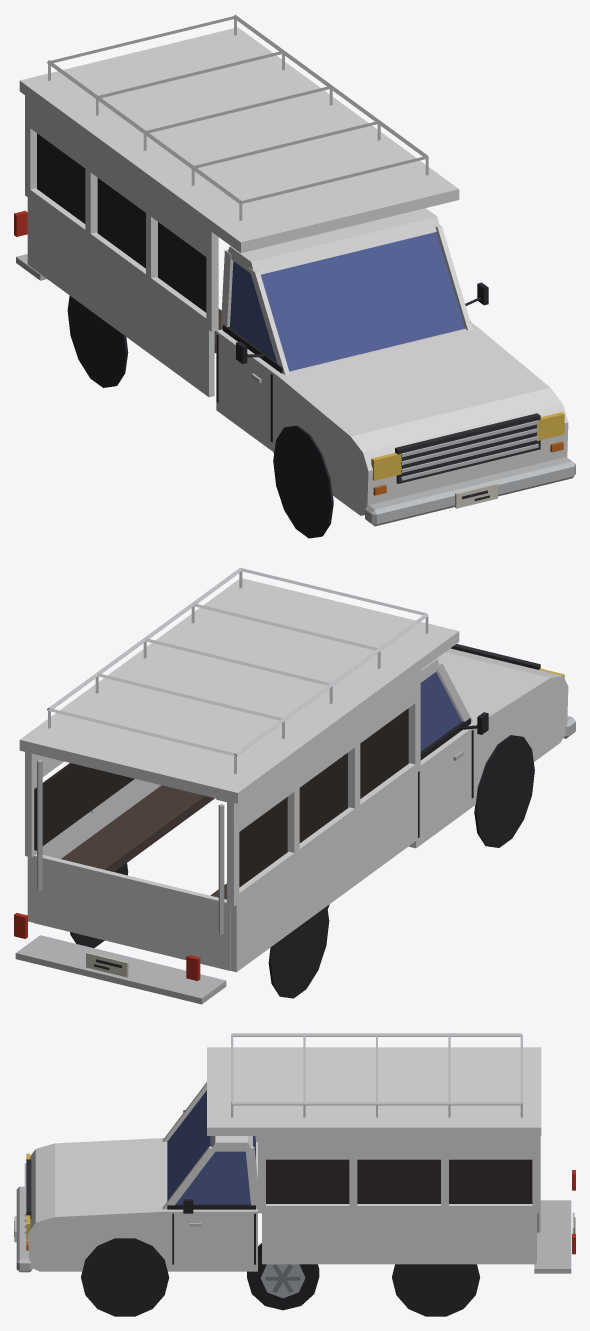
The model's file is songthaew.glb.
3 renders of one model, top to bottom at view 1: azimuth 30°, elevation 25°; view 2: azimuth 150°, elevation 25°; view 3: azimuth 270°, elevation 25°, orthographic. The views are drawn at different scales.
Visible parts, largest first — view 1: paint, body, lights; view 2: paint, body, lights; view 3: paint, body, wheel0.
Boxes of the visible parts, left/top/right/bottom form: paint: left=19, top=27, right=568, bottom=515; body: left=16, top=14, right=575, bottom=538; lights: left=14, top=210, right=564, bottom=480; paint: left=19, top=578, right=568, bottom=972; body: left=15, top=567, right=575, bottom=1004; lights: left=14, top=668, right=564, bottom=980; paint: left=27, top=1047, right=541, bottom=1271; body: left=14, top=1033, right=575, bottom=1316; wheel0: left=247, top=1243, right=319, bottom=1310.
Bounding box in the file's own units: 2.14 × 2.62 × 5.6.
